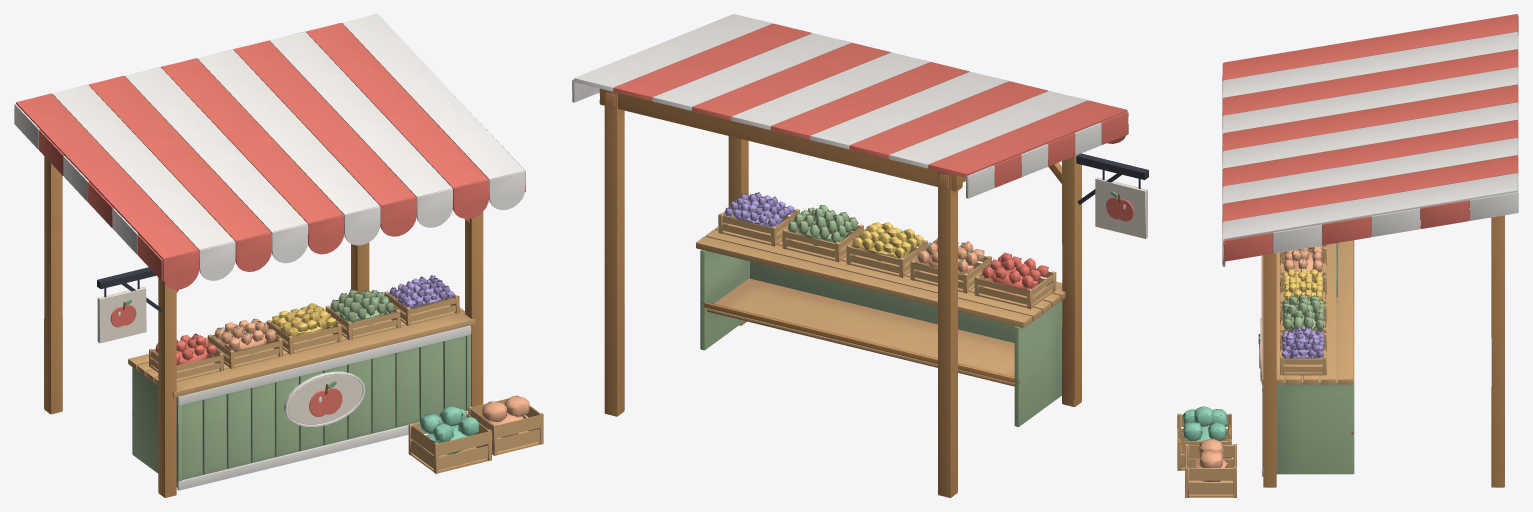
Rendered from warung_weld.glb.
3 renders of one model, left to right at view 1: azimuth 30°, elevation 25°; view 2: azimuth 150°, elevation 25°; view 3: azimuth 270°, elevation 25°, orthographic. The views are drawn at different scales.
Visible parts, largest first — view 1: market-stall_body, market-stall_crates, market-stall_produce, market-stall_signs; view 2: market-stall_body, market-stall_produce, market-stall_crates, market-stall_signs; view 3: market-stall_body, market-stall_produce, market-stall_crates.
Boxes of the visible parts, <box> form: market-stall_body: <box>14,14,525,497</box>; market-stall_crates: <box>149,290,543,473</box>; market-stall_produce: <box>155,275,529,454</box>; market-stall_signs: <box>97,267,365,427</box>; market-stall_body: <box>572,14,1128,497</box>; market-stall_produce: <box>724,192,1048,293</box>; market-stall_crates: <box>718,209,1056,309</box>; market-stall_signs: <box>1076,153,1148,238</box>; market-stall_body: <box>1222,14,1518,487</box>; market-stall_produce: <box>1182,235,1325,481</box>; market-stall_crates: <box>1177,234,1326,497</box>.
Bounding box in the file's own units: 3.64 × 2.65 × 2.66.
Materials: 15 (1 with a texture image).
